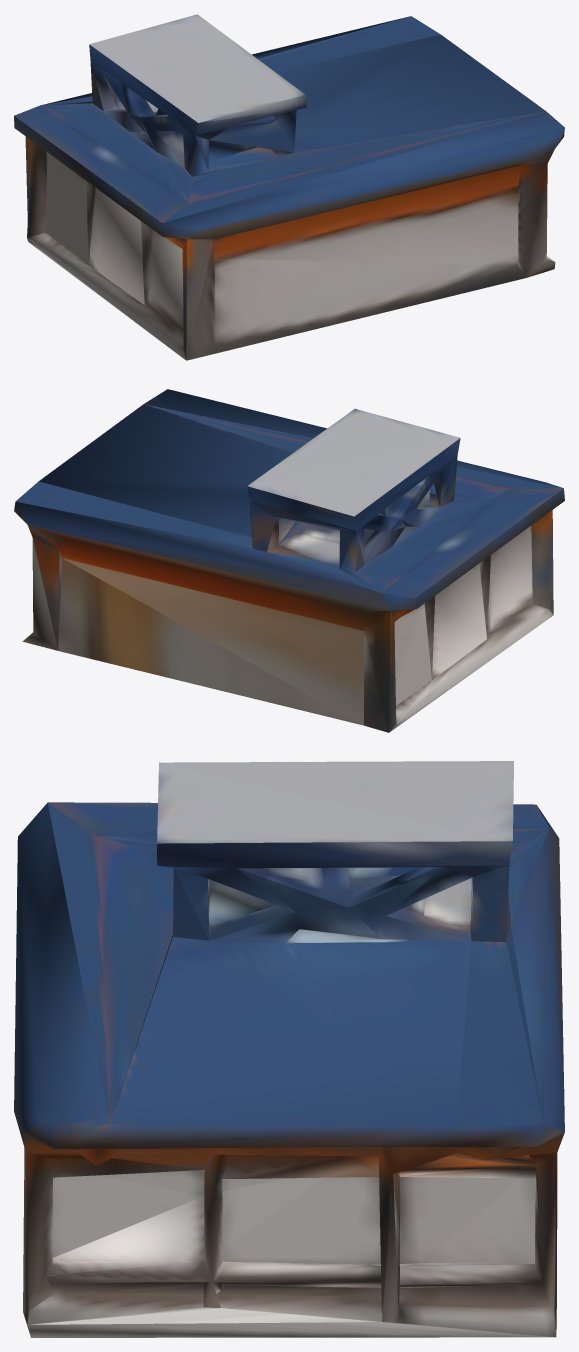
3 renders of one model, top to bottom at view 1: azimuth 30°, elevation 25°; view 2: azimuth 150°, elevation 25°; view 3: azimuth 270°, elevation 25°, orthographic. The views are drawn at different scales.
Visible parts, largest first — view 1: tripo_node_fb7e8506.002; view 2: tripo_node_fb7e8506.002; view 3: tripo_node_fb7e8506.002.
Boxes of the visible parts, x1=… form: tripo_node_fb7e8506.002: x1=14, y1=14, x2=564, y2=360; tripo_node_fb7e8506.002: x1=14, y1=389, x2=564, y2=732; tripo_node_fb7e8506.002: x1=14, y1=761, x2=564, y2=1337.
Bounding box in the file's own units: 14.61 × 6.9 × 10.48.
1 material, 1 textured.
